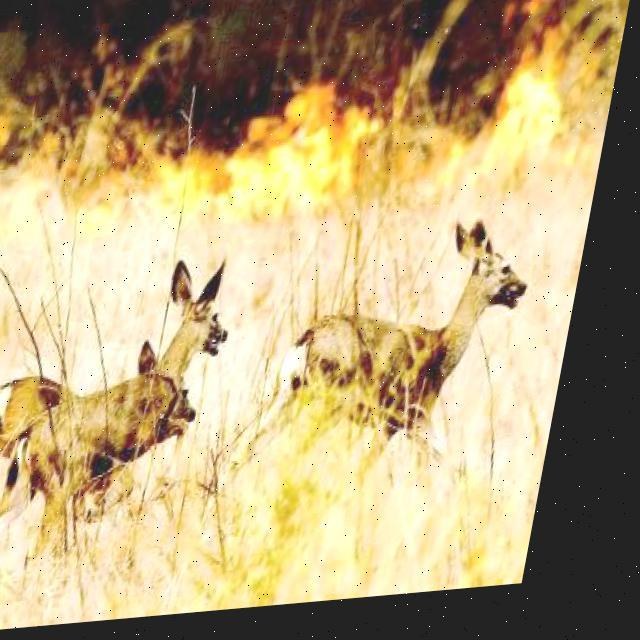Fire: (0, 70, 596, 250)
